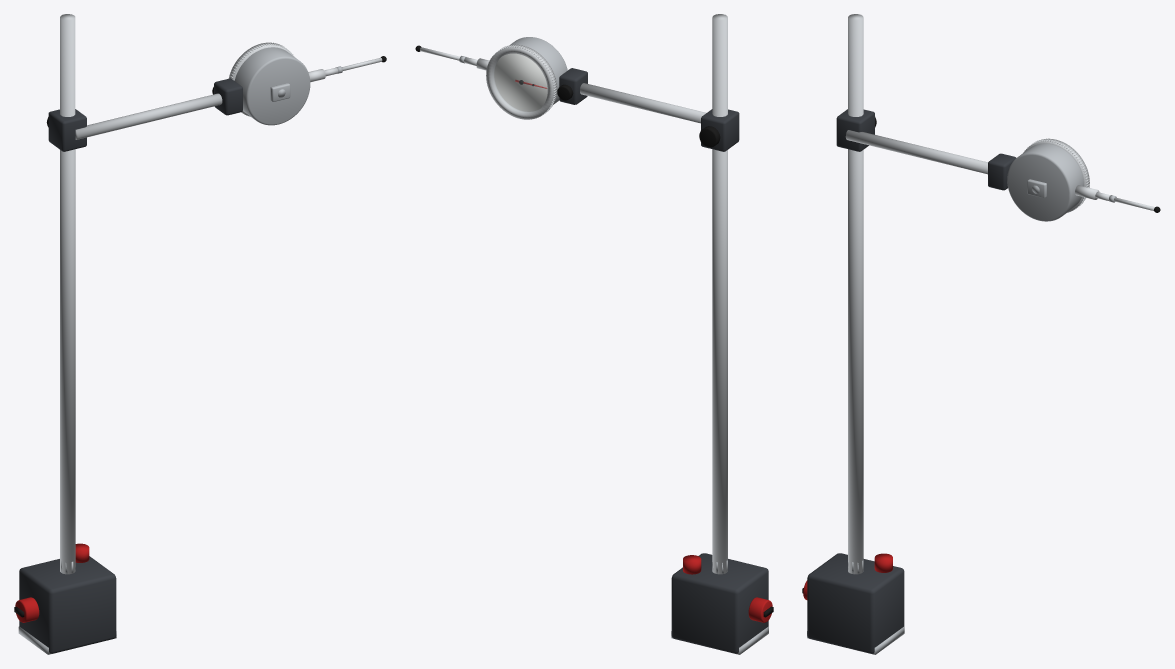
File: dial-gauge-b.glb
3 views of the same model, side by side, from view 1: azimuth 30°, elevation 25°; view 2: azimuth 150°, elevation 25°; view 3: azimuth 330°, elevation 25° (orthographic).
Parts seen in each view (by area): view 1: Stand, Case; view 2: Stand, Bezel, Crystal, Case; view 3: Stand, Case, Bezel.
Boxes of the visible parts, left/top/right/bottom form: Stand: left=14, top=14, right=242, bottom=654; Case: left=234, top=47, right=325, bottom=125; Stand: left=557, top=14, right=773, bottom=654; Bezel: left=486, top=44, right=557, bottom=119; Crystal: left=492, top=54, right=547, bottom=113; Case: left=476, top=37, right=567, bottom=104; Stand: left=802, top=14, right=1015, bottom=654; Case: left=1007, top=143, right=1099, bottom=221; Bezel: left=1023, top=138, right=1089, bottom=212.
Size of the model in its own units: 0.3205 by 0.5251 by 0.0511.
